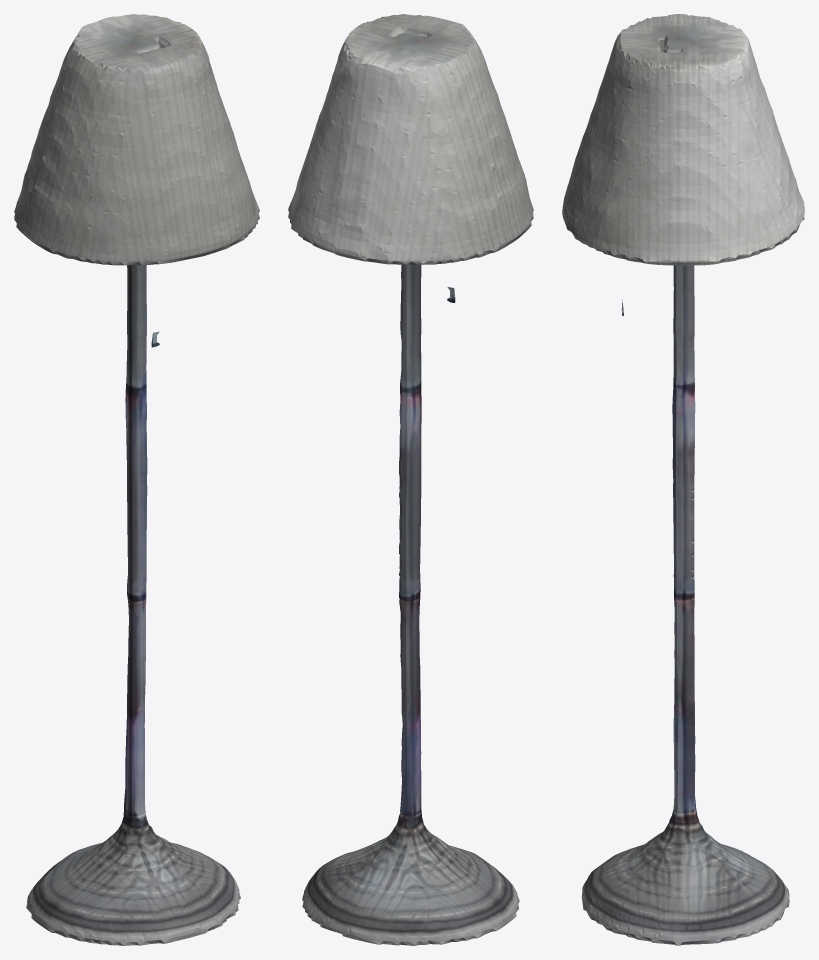
Rendered from ours.glb.
3 renders of one model, left to right at view 1: azimuth 30°, elevation 25°; view 2: azimuth 150°, elevation 25°; view 3: azimuth 270°, elevation 25°, orthographic.
Visible parts, largest first — view 1: painted; view 2: painted; view 3: painted.
Boxes of the visible parts, left/top/right/bottom form: painted: left=14, top=14, right=259, bottom=945; painted: left=288, top=14, right=533, bottom=945; painted: left=562, top=14, right=804, bottom=945.
Size of the model in its own units: 0.497 by 1.94 by 0.4946.
1 material, 1 textured.
